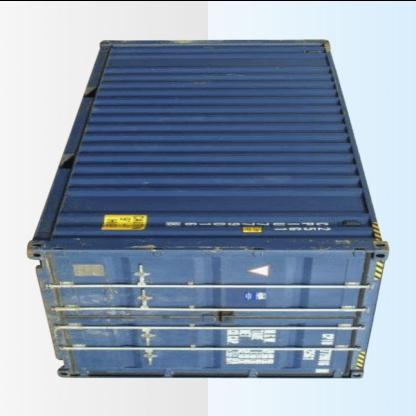Damage: (51, 286, 137, 322), (116, 240, 272, 258), (296, 236, 388, 254), (56, 328, 129, 350), (157, 37, 265, 51), (192, 70, 258, 86), (140, 176, 162, 190)
